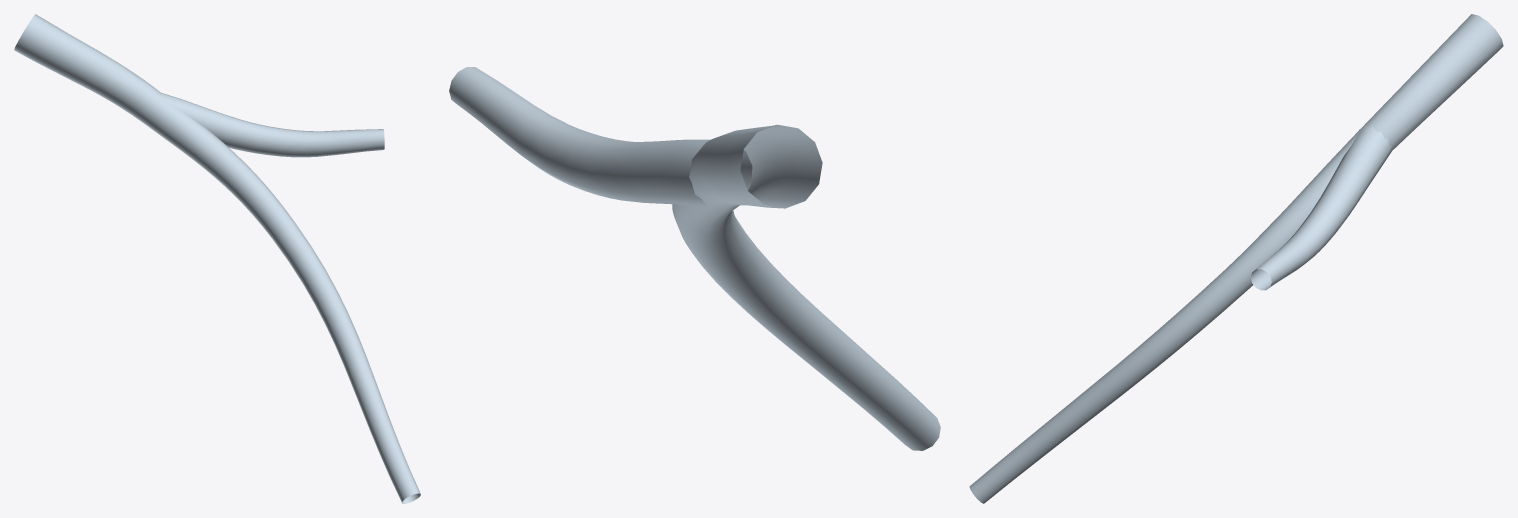
File: visceras-anterior-basal-segmental-bronchus-of-left-lung-bviii.glb
3 renders of one model, left to right at view 1: azimuth 30°, elevation 25°; view 2: azimuth 150°, elevation 25°; view 3: azimuth 270°, elevation 25°, orthographic. The views are drawn at different scales.
Visible parts, largest first — view 1: Anterior basal segmental bronchus of left lung (BVIII); view 2: Anterior basal segmental bronchus of left lung (BVIII); view 3: Anterior basal segmental bronchus of left lung (BVIII).
Part boxes in pixels (x1,y1,x2,y2): Anterior basal segmental bronchus of left lung (BVIII): (14, 14, 420, 503); Anterior basal segmental bronchus of left lung (BVIII): (449, 67, 940, 450); Anterior basal segmental bronchus of left lung (BVIII): (969, 14, 1503, 503).
Size of the model in its own units: 0.0455 by 0.0569 by 0.0682.
